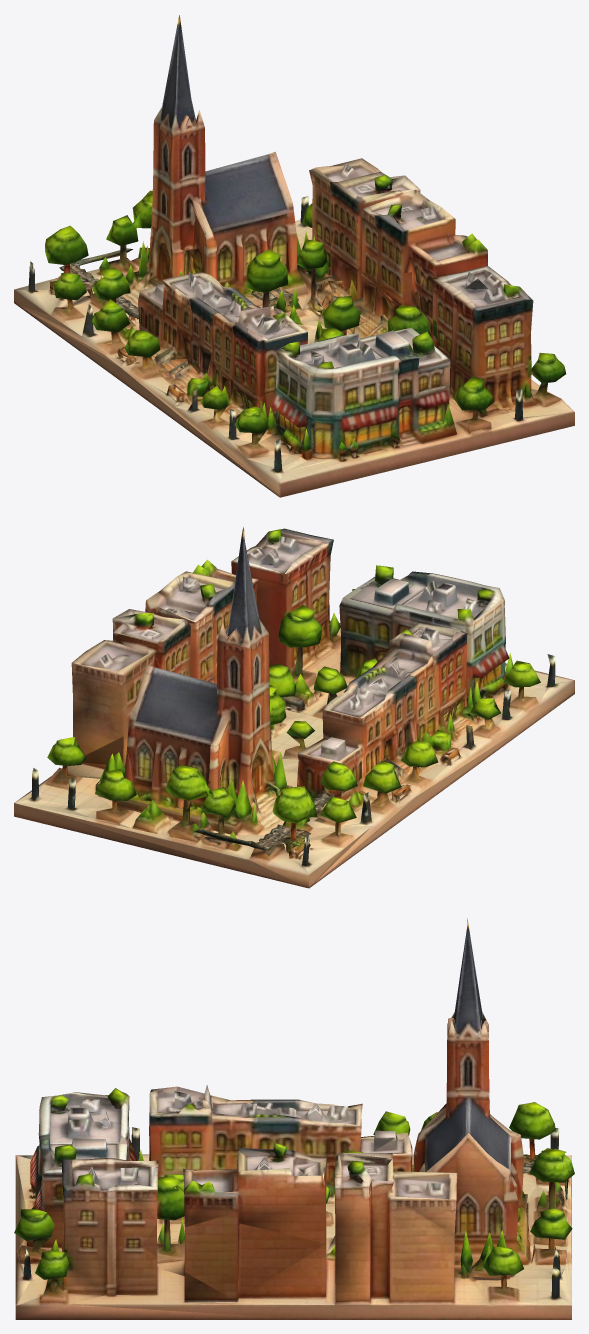
Rendered from block-harlem-a.far.glb.
3 views of the same model, one above another, from view 1: azimuth 30°, elevation 25°; view 2: azimuth 150°, elevation 25°; view 3: azimuth 270°, elevation 25° (orthographic). The views are drawn at different scales.
Visible parts, largest first — view 1: low; view 2: low; view 3: low.
Part boxes in pixels (x1=…): low: x1=14, y1=15, x2=574, y2=497; low: x1=14, y1=527, x2=574, y2=888; low: x1=14, y1=918, x2=574, y2=1319.
Bounding box in the file's own units: 0.6473 × 0.5986 × 0.9782.
1 material, 1 textured.
